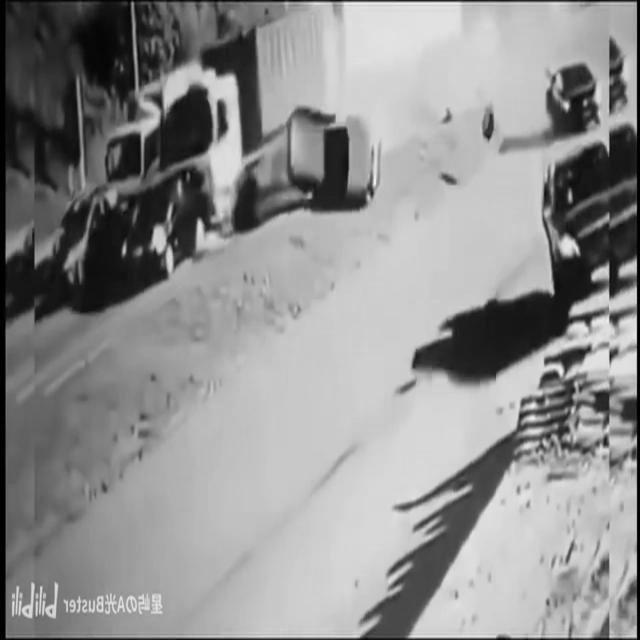accident: (116, 13, 378, 279)
